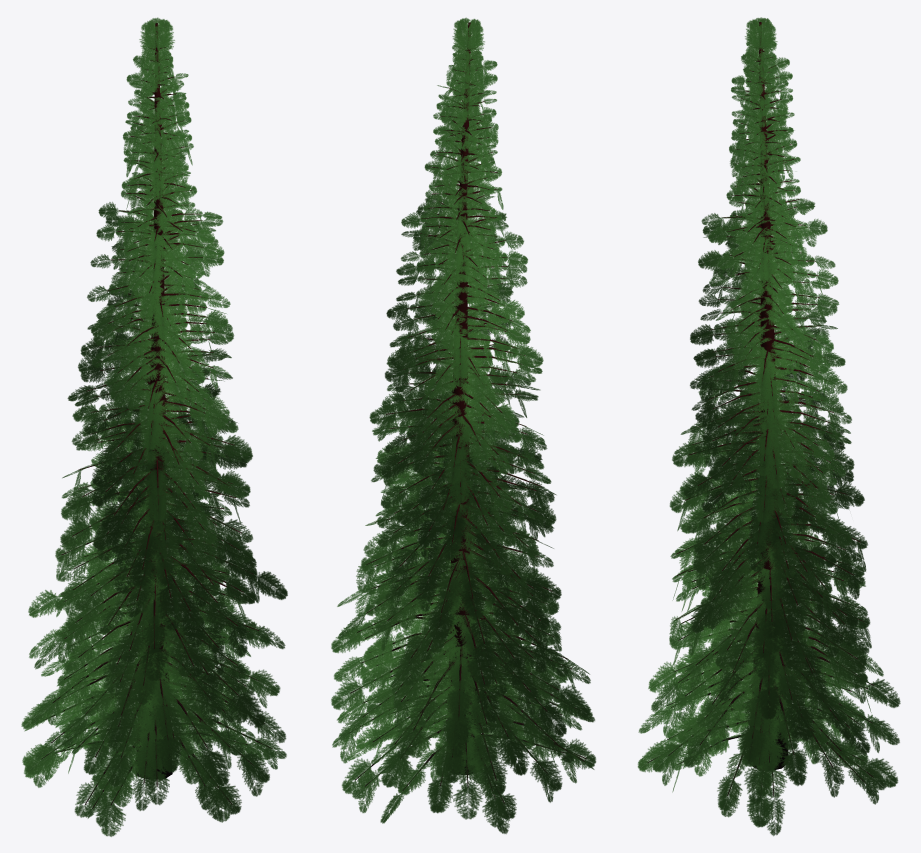
File: spruce_conifer_v02_LOD1.glb
3 views of the same model, side by side, from view 1: azimuth 30°, elevation 25°; view 2: azimuth 150°, elevation 25°; view 3: azimuth 270°, elevation 25° (orthographic).
Parts seen in each view (by area): view 1: spruce_conifer_v02_LOD1; view 2: spruce_conifer_v02_LOD1; view 3: spruce_conifer_v02_LOD1.
Part boxes in pixels (<box>): spruce_conifer_v02_LOD1: <box>21,17,287,836</box>; spruce_conifer_v02_LOD1: <box>331,17,596,833</box>; spruce_conifer_v02_LOD1: <box>637,17,900,835</box>.
Bounding box in the file's own units: 9.45 × 29.09 × 9.45.
2 materials, 2 textured.
